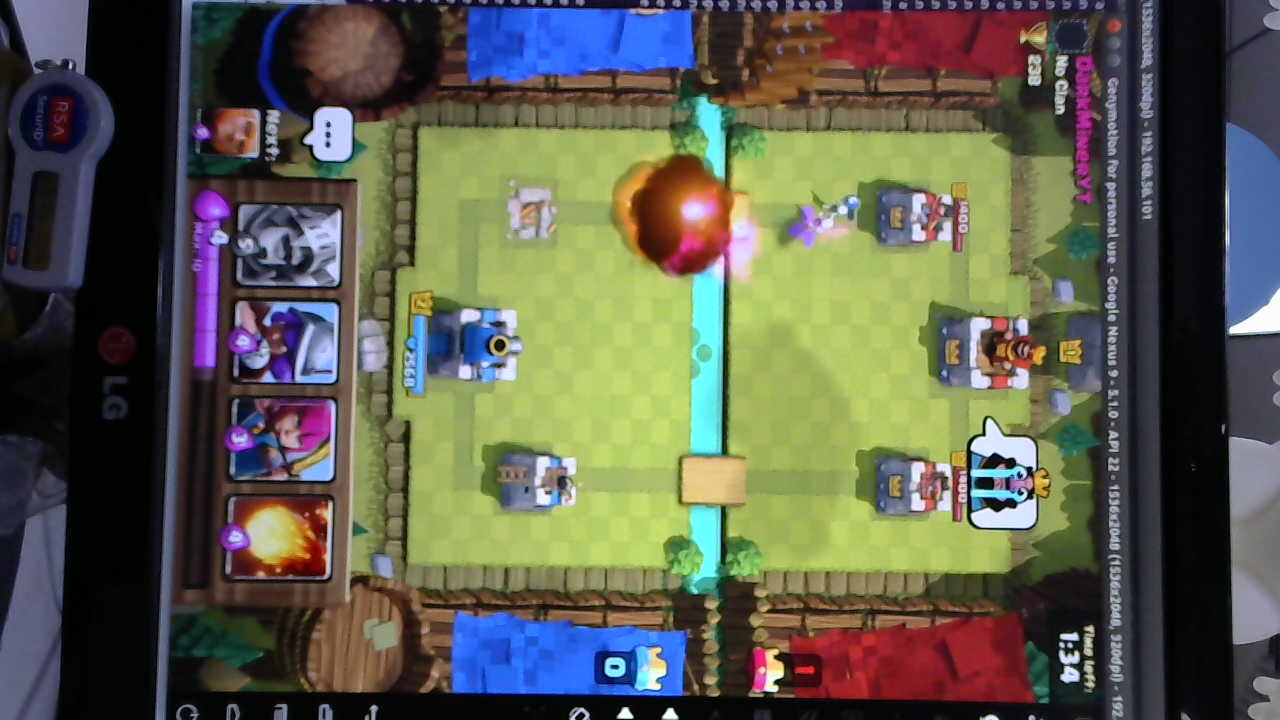fireballL: (614, 164, 695, 266)
